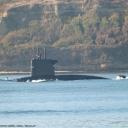submarine: (5, 48, 128, 84)
